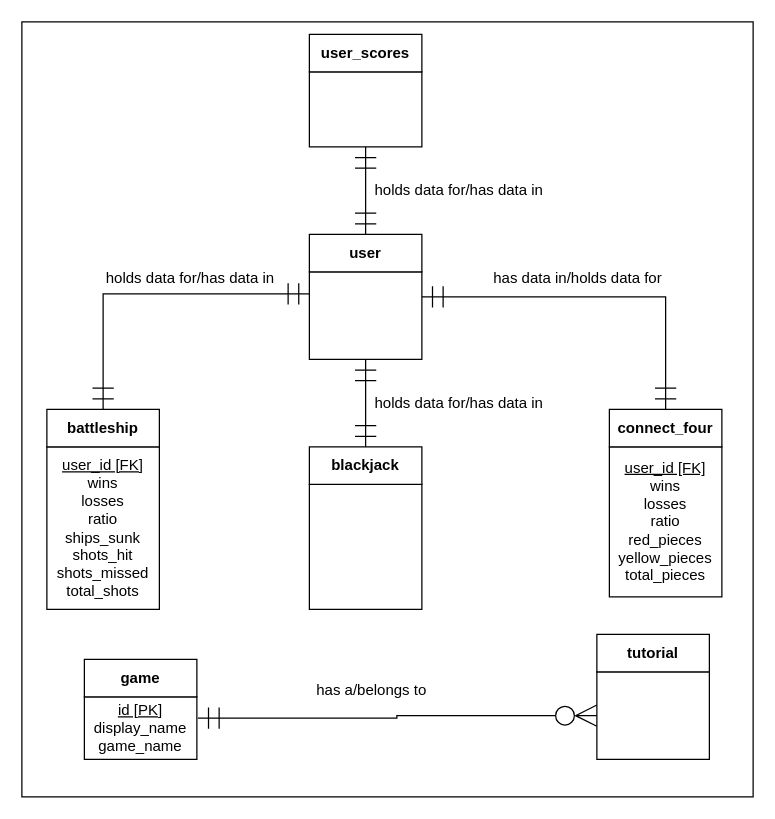
Image size: 775x819. Some labels were removed from this diagram. Here are the shapes that lost their labels. From the top down, the centre of each, then its label:
At (365,109): "user_id [FK] wins losses ratio".
At (365,315): "id [PK] username display_name password".
At (365,546): "user_id [FK] wins losses ratio hits stands".
At (652,715): "game_id [FK] step [PK] instruction".
